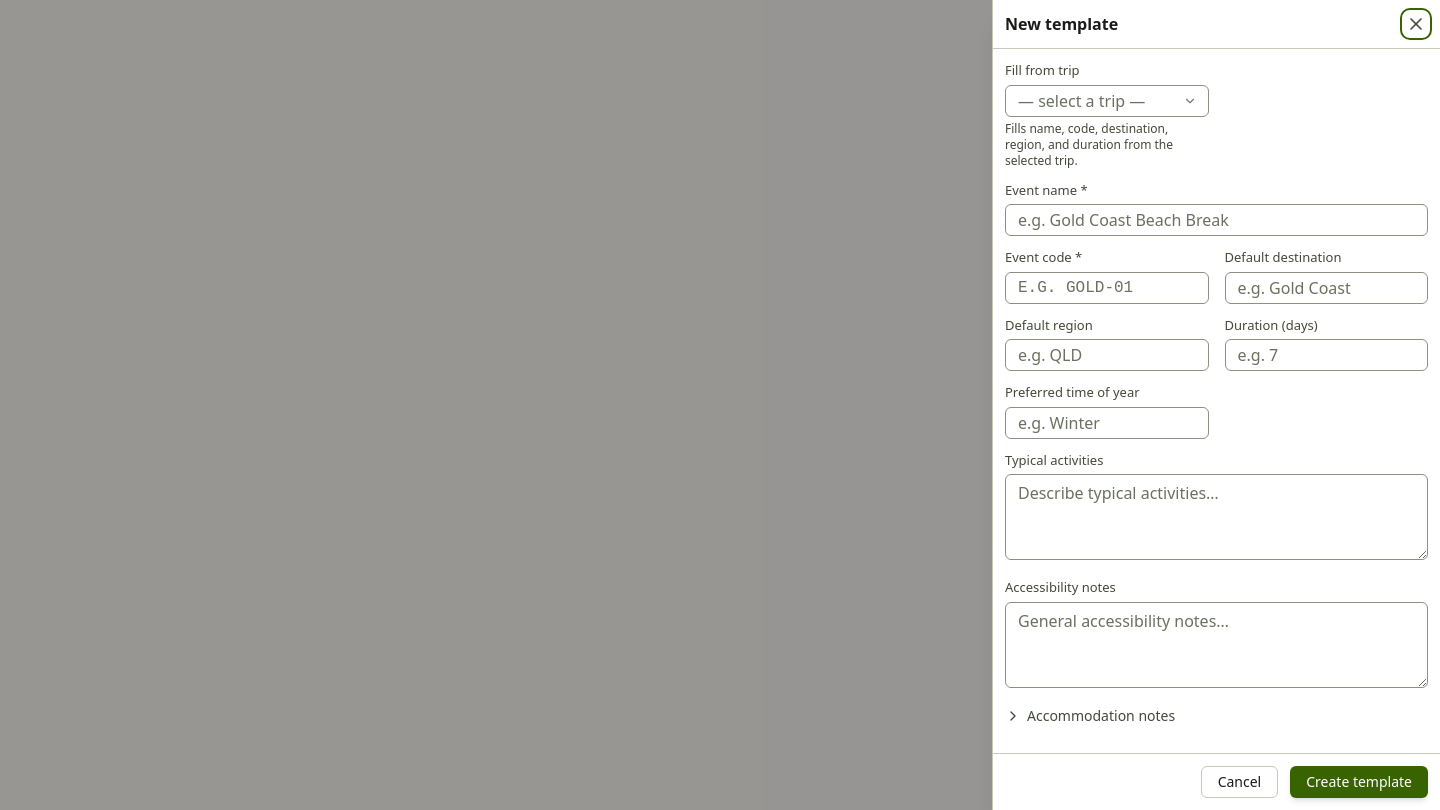
Scenario: zodResolver forms: empty submit › TemplateFormPanel shows the field errors and throws nothing
The image size is (1440, 810).
What coordinates should you click on to do the following:
click the button "Create template"
I would click on:
 (1359, 782)
Its box is [1290,766,1428,798].
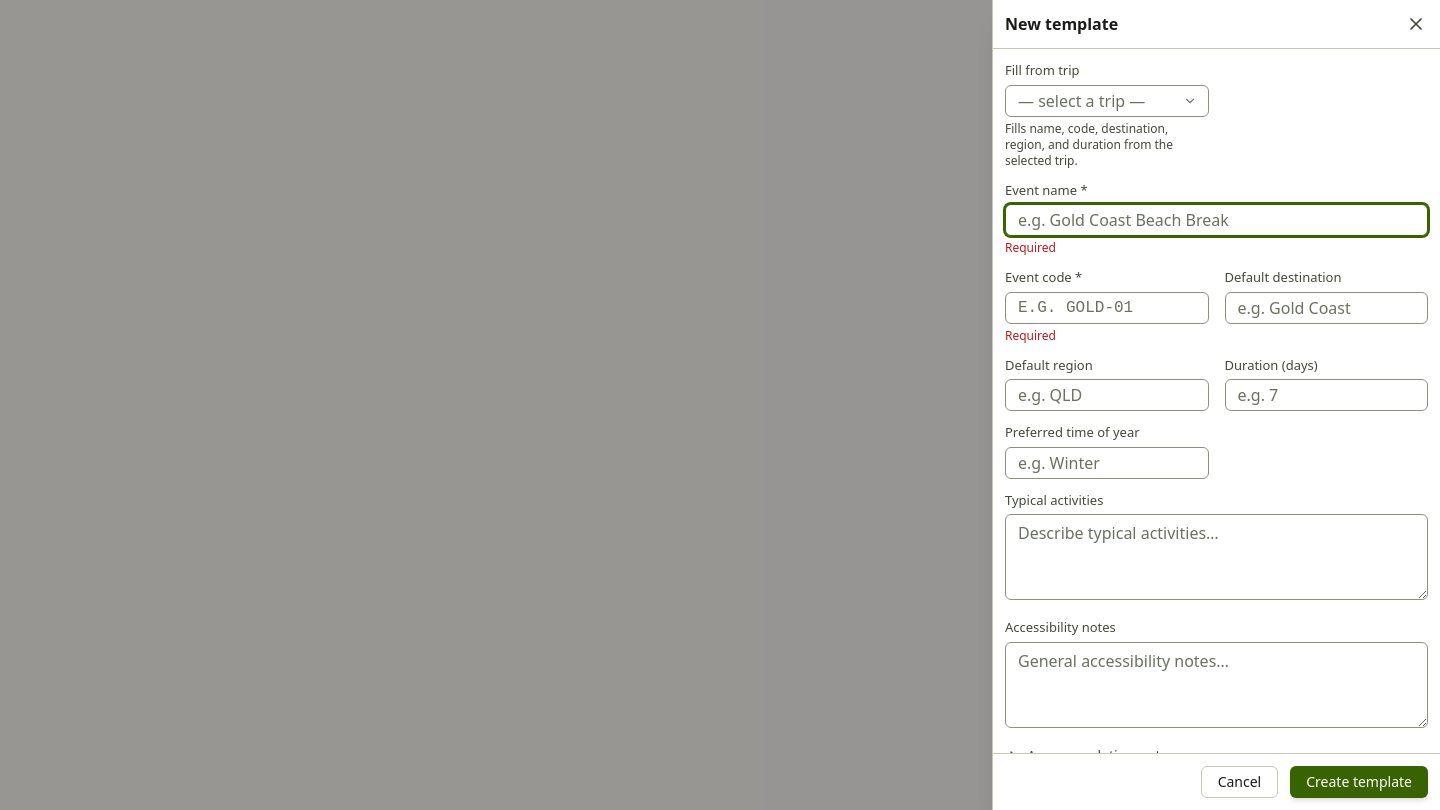
Expected: the text "Required" below "Event name *" is shown, [1005,239,1056,256]
